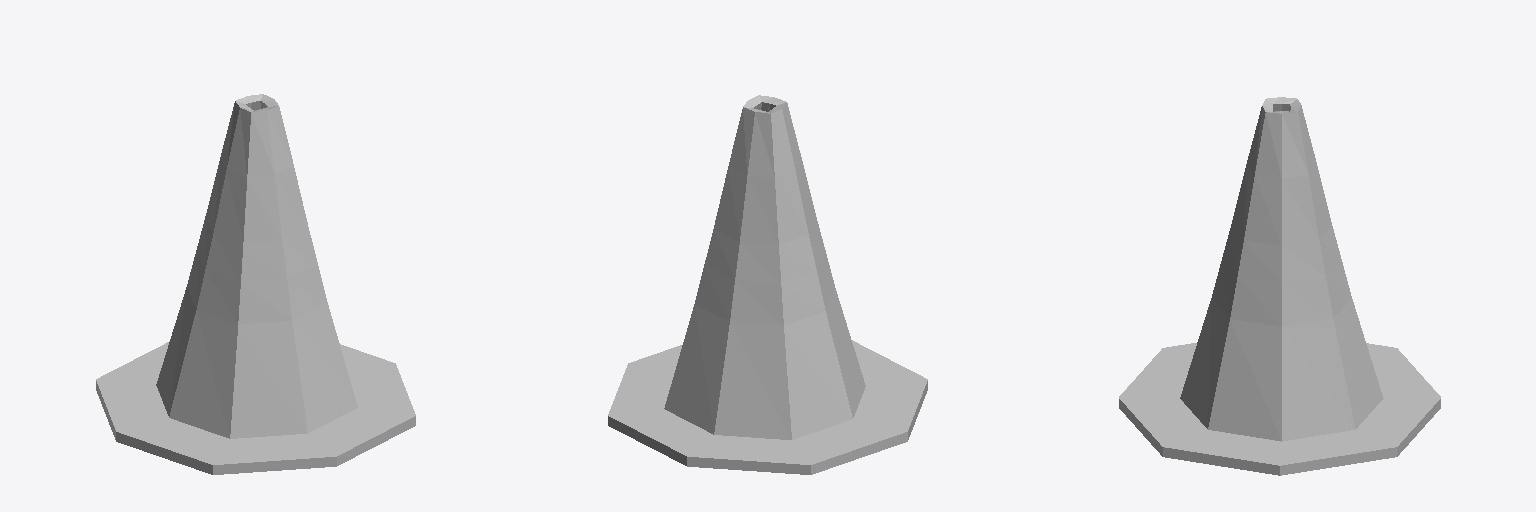
The model's file is trafficCone.obj.
The picture shows the model from 3 angles: view 1: azimuth 30°, elevation 25°; view 2: azimuth 150°, elevation 25°; view 3: azimuth 270°, elevation 25°; orthographic projection.
Visible parts, largest first — view 1: Cube; view 2: Cube; view 3: Cube.
Part boxes in pixels (x1,y1,x2,y2): Cube: (96, 94, 415, 474); Cube: (608, 95, 927, 474); Cube: (1119, 97, 1440, 475).
Size of the model in its own units: 1.78 by 1.85 by 1.78.